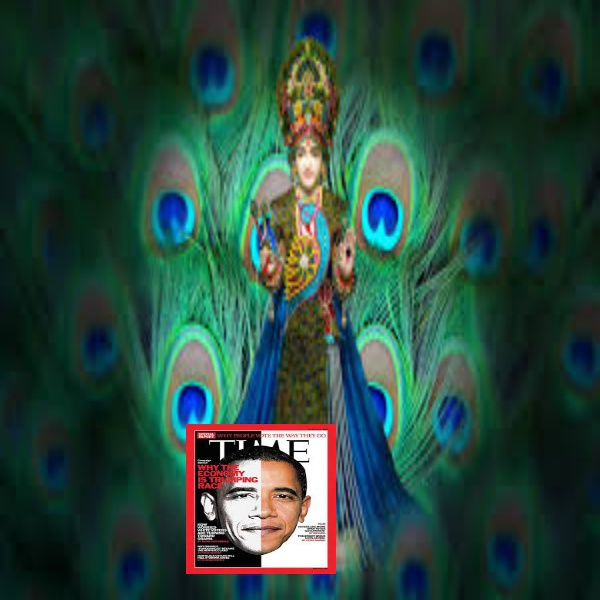time_cover: (187, 417, 338, 569)
